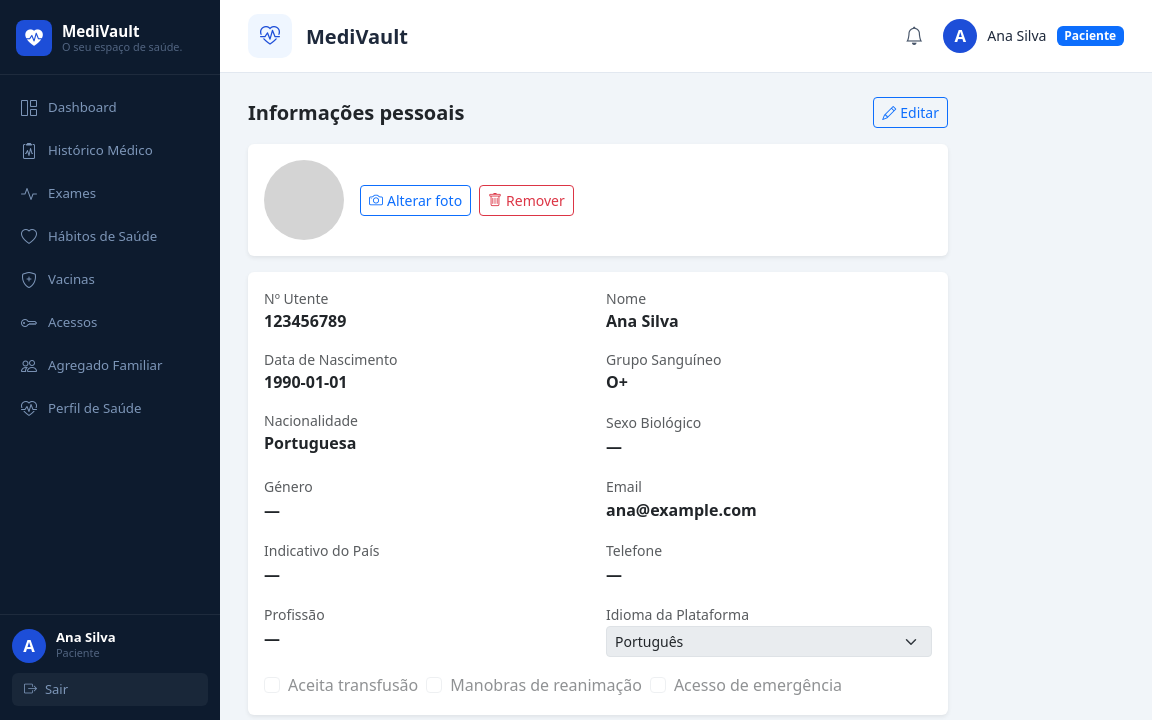
ProfilePage › removes the photo after confirming
Click the button "Remover" at (526, 200), box left=479, top=184, right=574, bottom=216
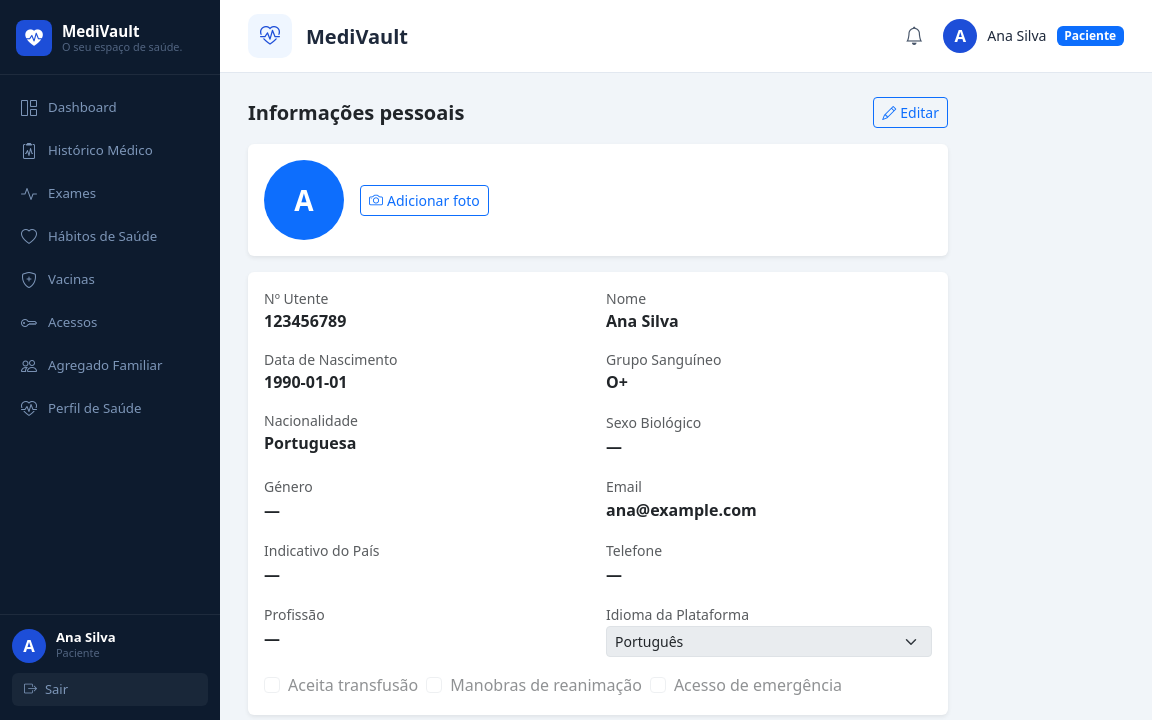
Result: the button "Adicionar foto" is shown at left=360, top=184, right=489, bottom=216
